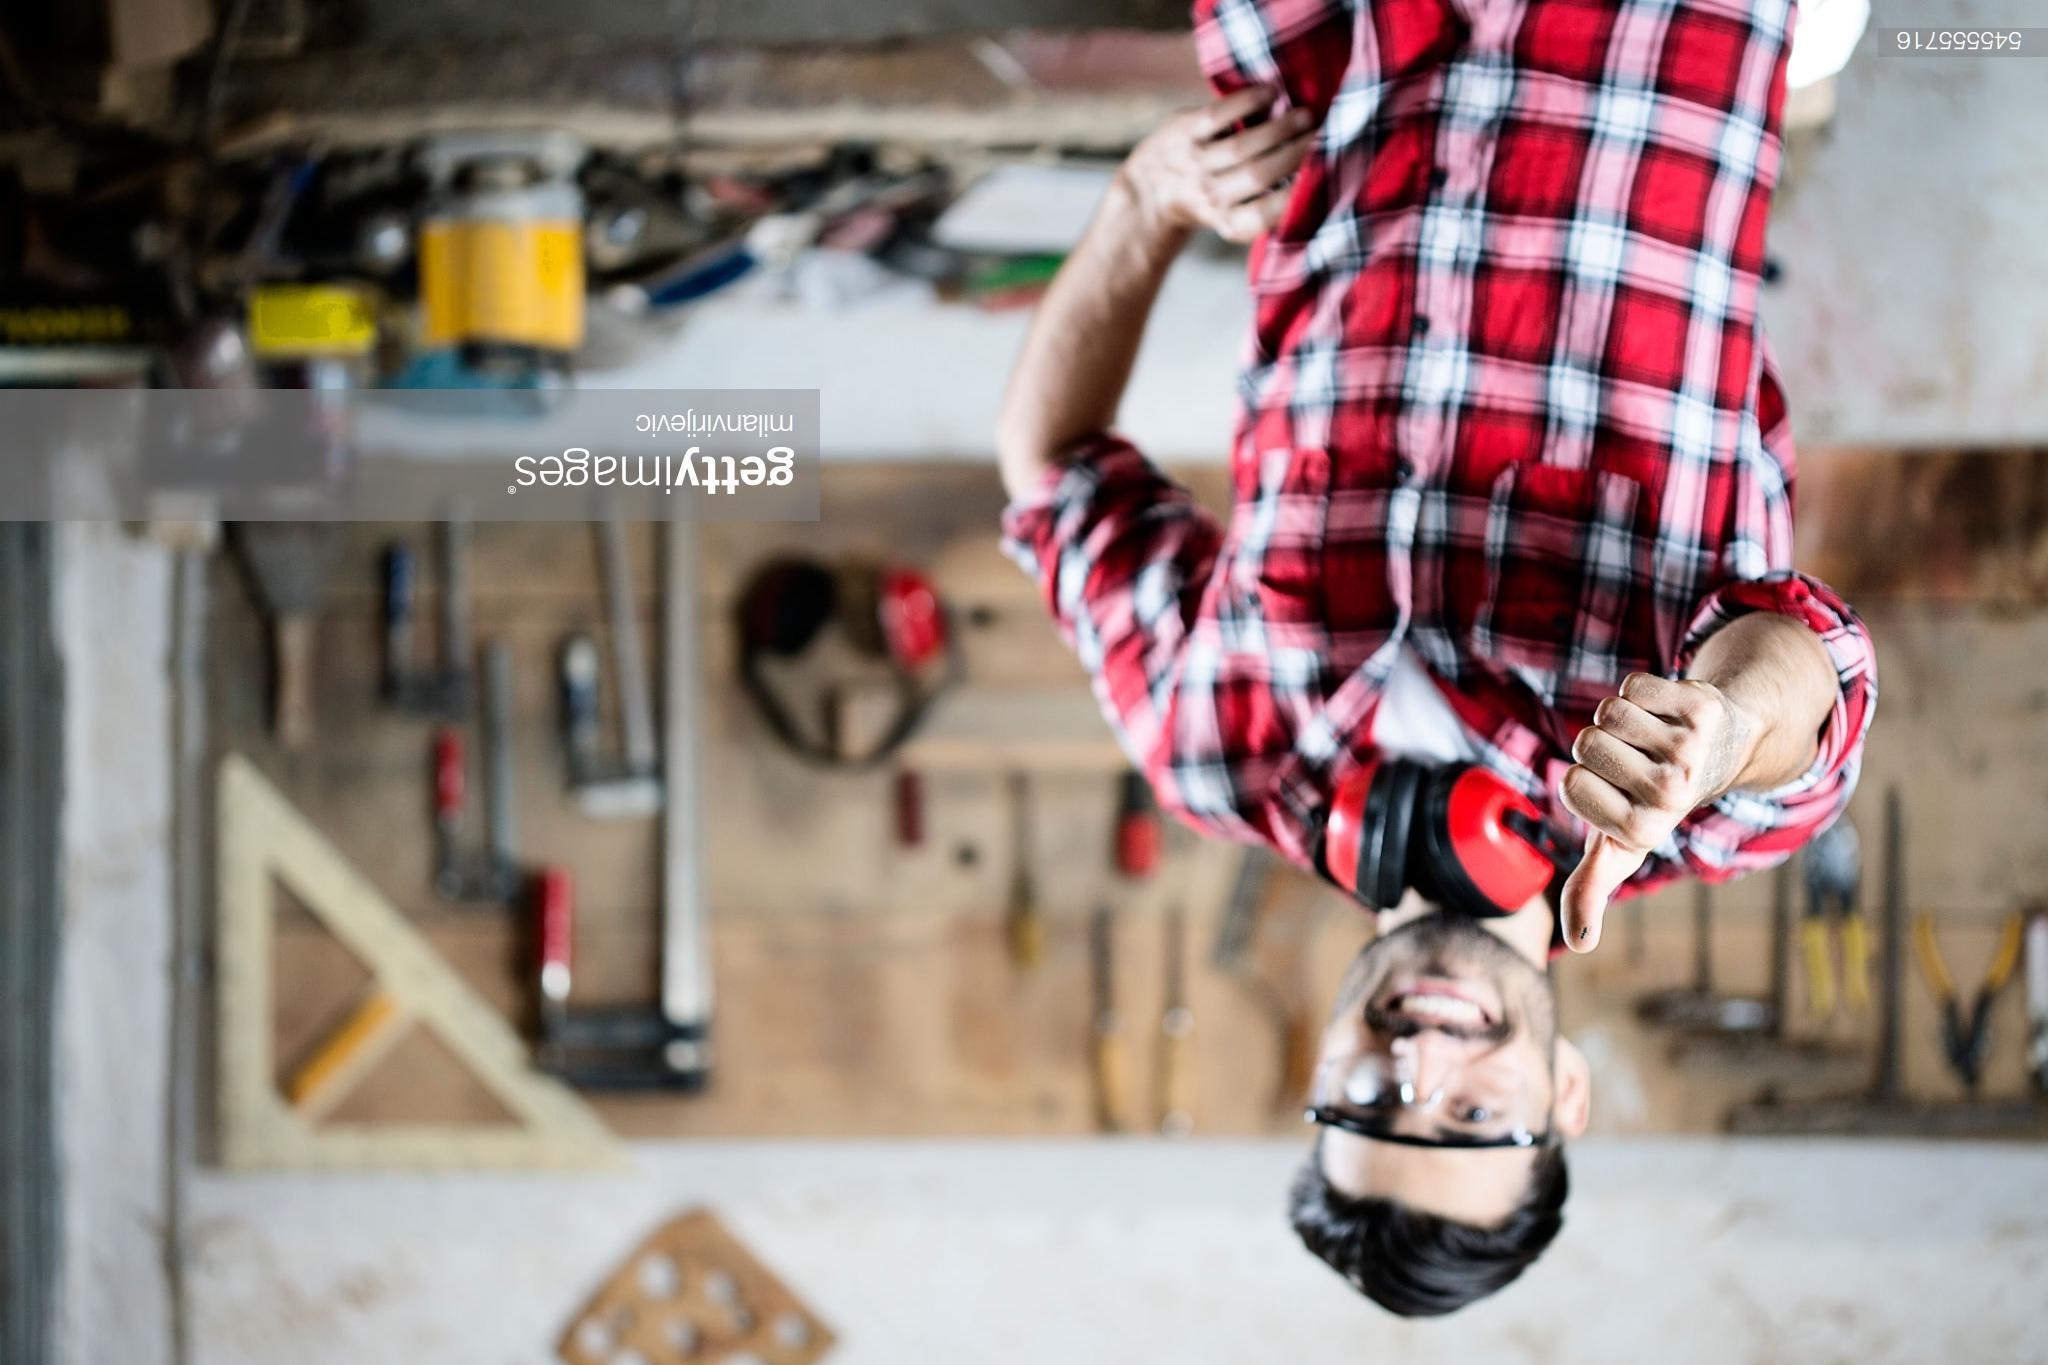thumbsdown: (1561, 670, 1716, 954)
